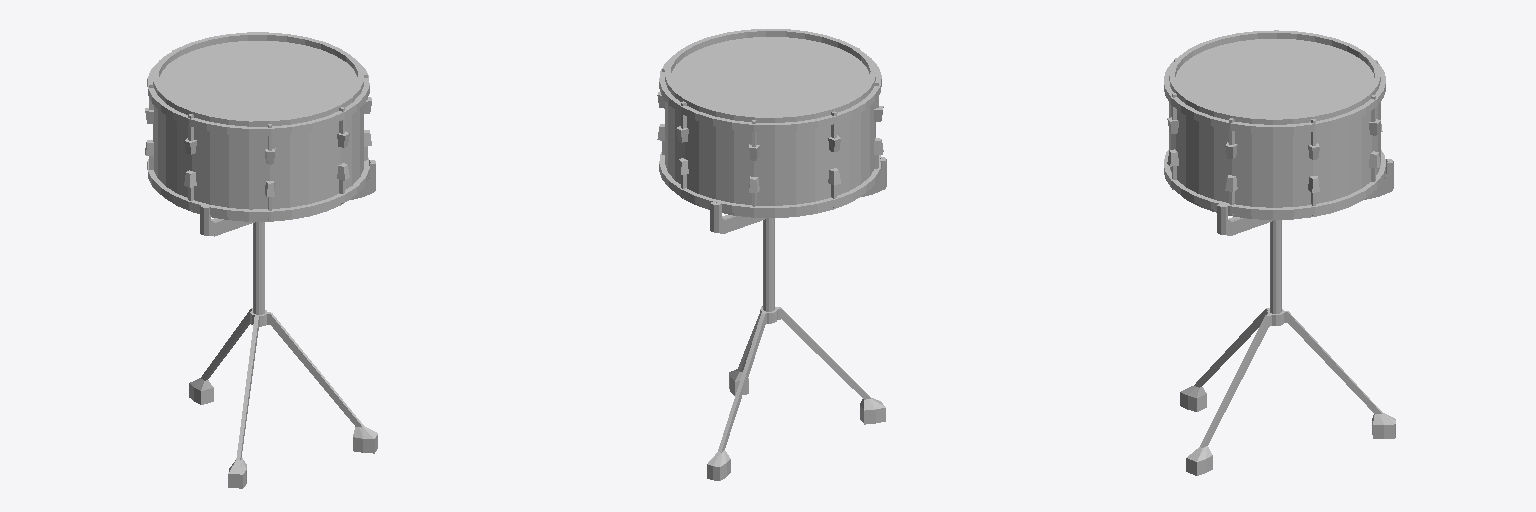
The model's file is Drum.obj.
The picture shows the model from 3 angles: view 1: azimuth 30°, elevation 25°; view 2: azimuth 150°, elevation 25°; view 3: azimuth 270°, elevation 25°; orthographic projection.
Visible parts, largest first — view 1: Snaredrum_Unified.003, SnareStand; view 2: Snaredrum_Unified.003, SnareStand; view 3: Snaredrum_Unified.003, SnareStand.
Part boxes in pixels (left/top/right/bottom): Snaredrum_Unified.003: left=145, top=32, right=371, bottom=221; SnareStand: left=189, top=160, right=377, bottom=488; Snaredrum_Unified.003: left=657, top=29, right=883, bottom=217; SnareStand: left=707, top=157, right=886, bottom=480; Snaredrum_Unified.003: left=1164, top=30, right=1385, bottom=219; SnareStand: left=1180, top=159, right=1395, bottom=475.
Bounding box in the file's own units: 0.3622 × 0.6487 × 0.3786.